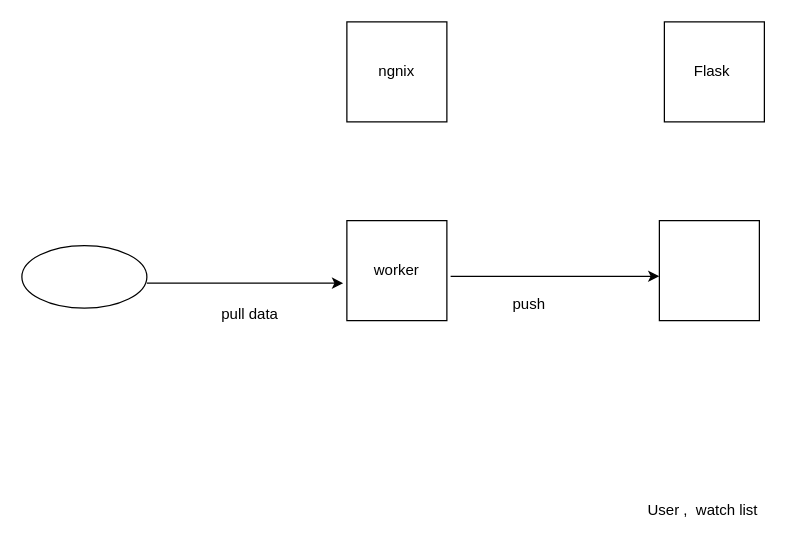
This 805x545 diagram has some shape labels left out. Each missing label, with the box of its shape:
BSE: (21, 244, 147, 308)
Mongo: (658, 219, 759, 321)
